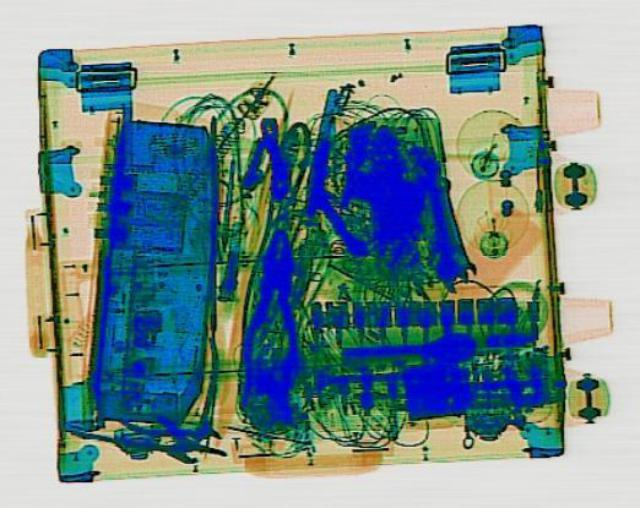Pliers: (88, 333, 276, 466), (234, 226, 306, 407)
Wrench: (418, 177, 469, 293)
